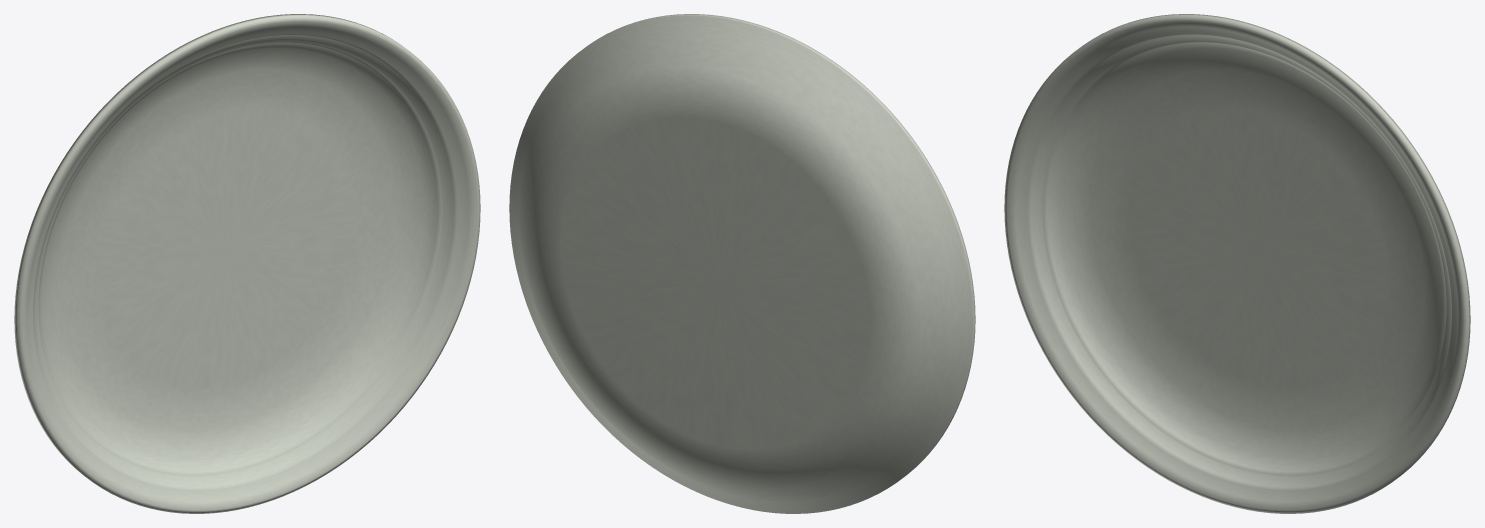
Rendered from local.glb.
The picture shows the model from 3 angles, left to right: view 1: azimuth 30°, elevation 25°; view 2: azimuth 150°, elevation 25°; view 3: azimuth 330°, elevation 25°; orthographic projection.
Parts seen in each view (by area): view 1: plate; view 2: plate; view 3: plate.
Part boxes in pixels (x1,y1,x2,y2): plate: (14, 14, 480, 513); plate: (509, 14, 975, 513); plate: (1004, 14, 1470, 513).
Bounding box in the file's own units: 0.202 × 0.202 × 0.022.
Materials: 1 (1 with a texture image).
